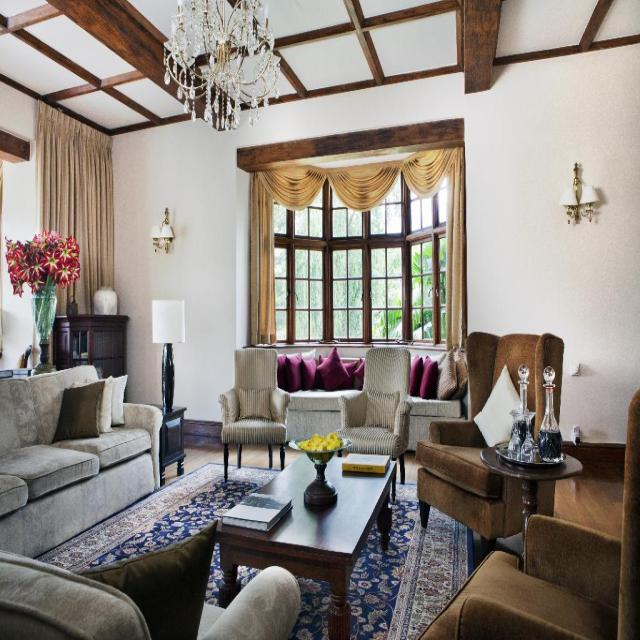Chair: (414, 392, 640, 639), (415, 330, 565, 558), (0, 547, 303, 639), (334, 344, 414, 503), (218, 349, 292, 482)
